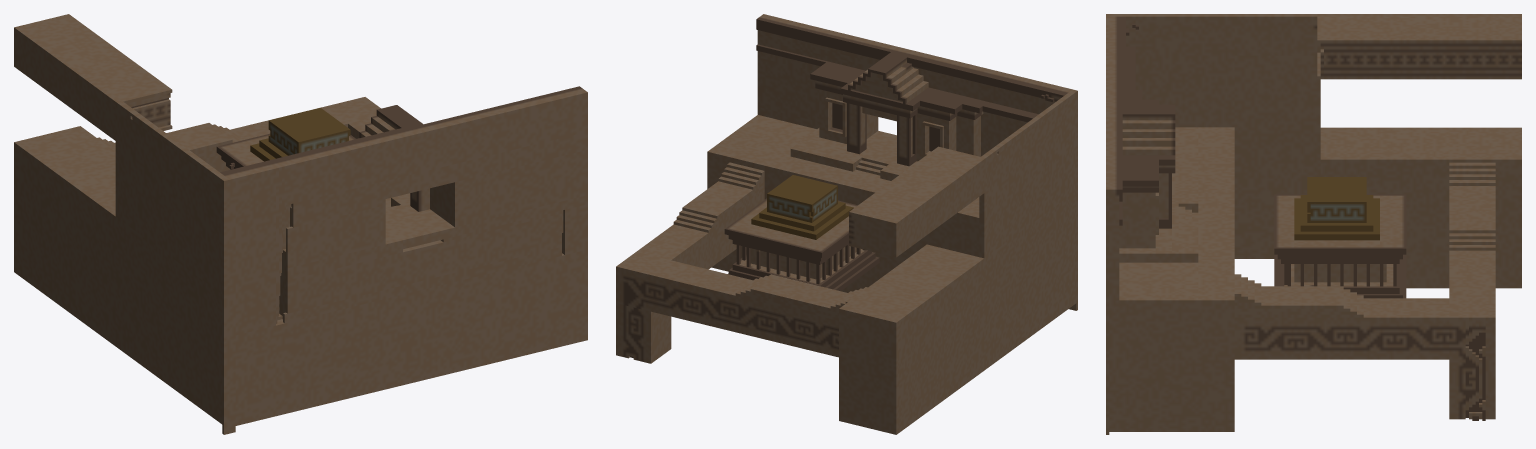
File: TEMPLOCORRECCION.fbx
The picture shows the model from 3 angles, left to right: view 1: azimuth 30°, elevation 25°; view 2: azimuth 150°, elevation 25°; view 3: azimuth 270°, elevation 25°; orthographic projection. The views are drawn at different scales.
Visible parts, largest first — view 1: TEMPLO_base_correcion:Mesh; view 2: TEMPLO_base_correcion:Mesh; view 3: TEMPLO_base_correcion:Mesh.
Part boxes in pixels (box(x1,y1,x2,y2)): TEMPLO_base_correcion:Mesh: box(14, 14, 587, 434); TEMPLO_base_correcion:Mesh: box(616, 14, 1077, 434); TEMPLO_base_correcion:Mesh: box(1106, 14, 1521, 434).
Size of the model in its own units: 12.6 by 8.4 by 12.6.
